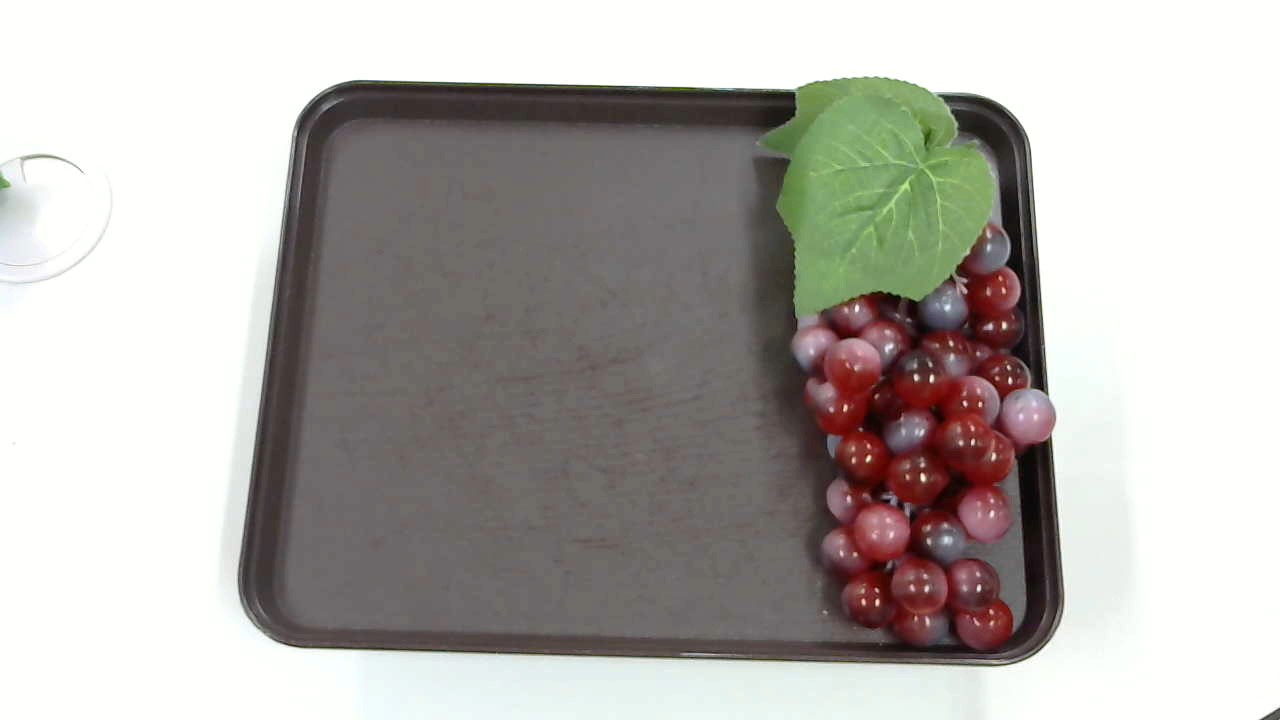grape: (756, 74, 1064, 686)
